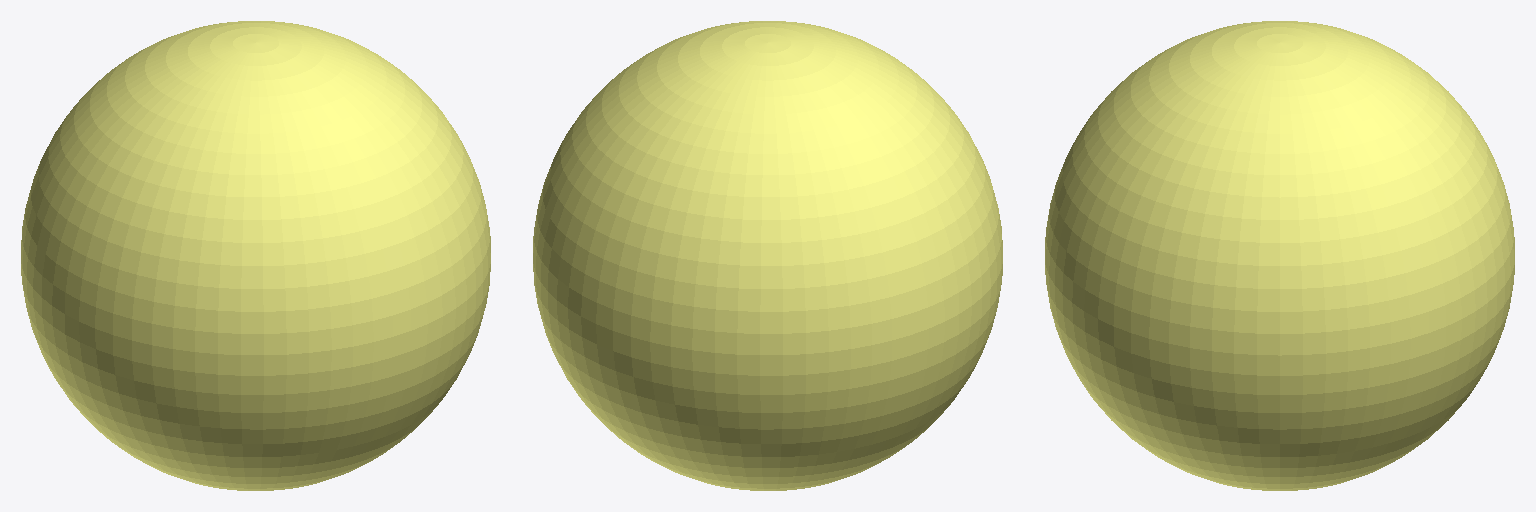
File: colored-ball.obj
3 views of the same model, side by side, from view 1: azimuth 30°, elevation 25°; view 2: azimuth 150°, elevation 25°; view 3: azimuth 270°, elevation 25° (orthographic).
Parts seen in each view (by area): view 1: Sphere; view 2: Sphere; view 3: Sphere.
Part boxes in pixels (left/top/right/bottom): Sphere: left=21, top=21, right=490, bottom=490; Sphere: left=533, top=21, right=1002, bottom=490; Sphere: left=1045, top=21, right=1514, bottom=490.
Size of the model in its own units: 2 by 2 by 2.